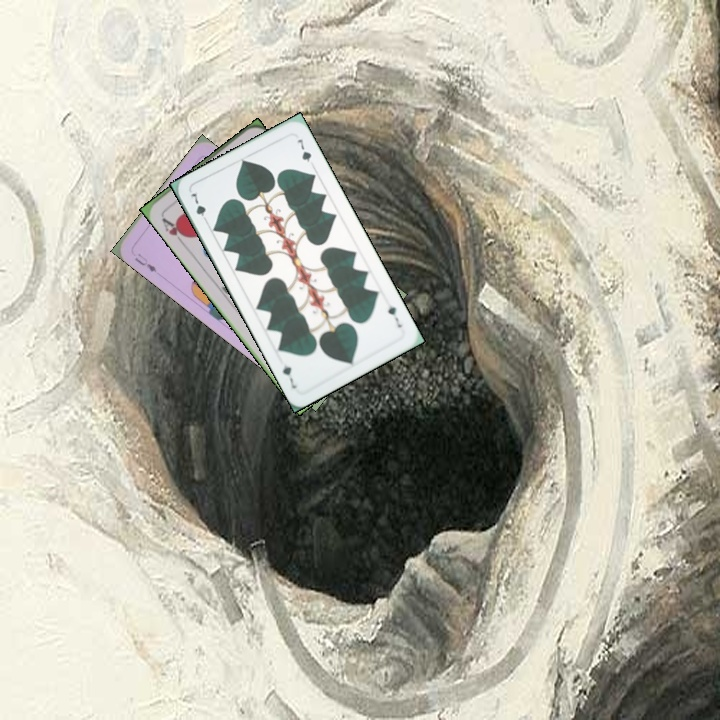EU: (131, 249, 159, 275)
G7: (186, 189, 211, 226), (384, 301, 405, 330)
HA: (157, 211, 190, 246)
